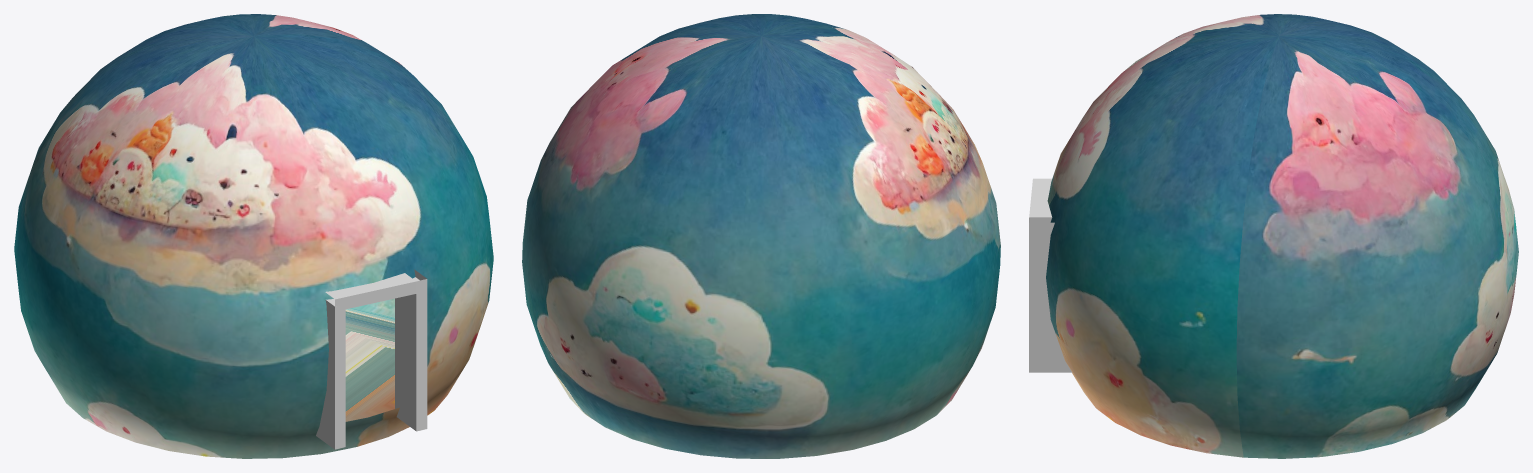
Rendered from Anonymom-dome.glb.
3 renders of one model, left to right at view 1: azimuth 30°, elevation 25°; view 2: azimuth 150°, elevation 25°; view 3: azimuth 270°, elevation 25°, orthographic.
Visible parts, largest first — view 1: Sphere, Cube.650; view 2: Sphere; view 3: Sphere, Cube.650.
Part boxes in pixels (box(x1,y1,x2,y2)): Sphere: box(14, 14, 493, 458); Cube.650: box(316, 269, 427, 449); Sphere: box(522, 14, 1000, 458); Sphere: box(1046, 14, 1518, 458); Cube.650: box(1029, 178, 1072, 372).
Bounding box in the file's own units: 13.28 × 10.33 × 13.55.
Materials: 2 (1 with a texture image).
